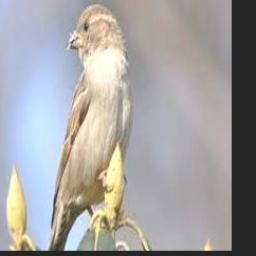Sparrow: (47, 3, 133, 250)
